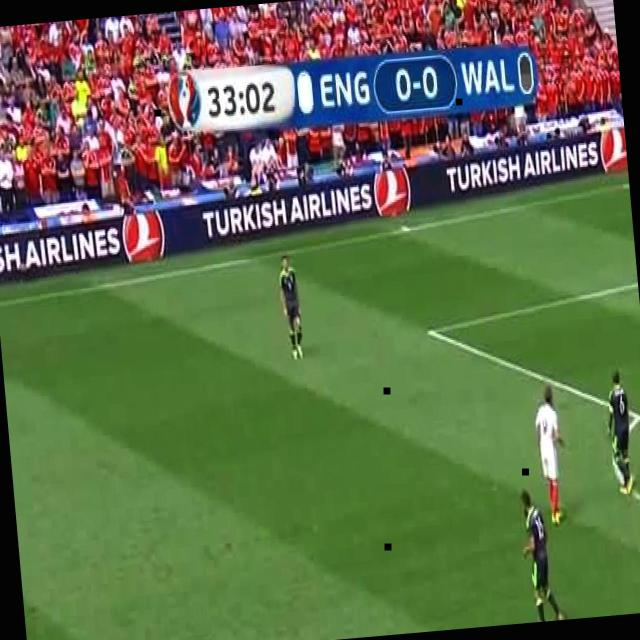player-white: (515, 487, 564, 623), (532, 383, 572, 527), (602, 371, 635, 495), (278, 254, 305, 360)
